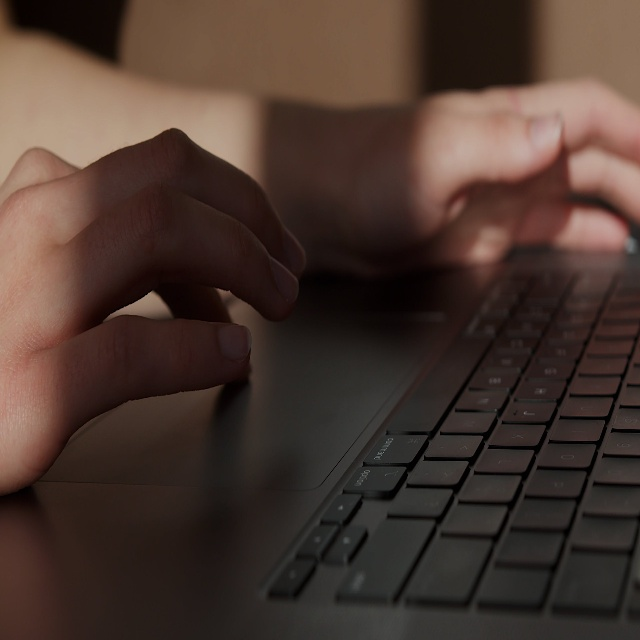Sin_guantes: (0, 124, 309, 512), (344, 72, 640, 274)
